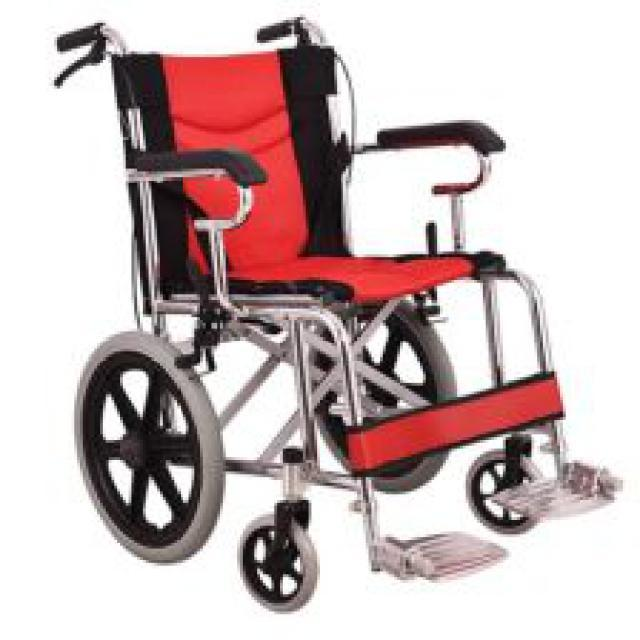wheelchair: (34, 6, 637, 608)
